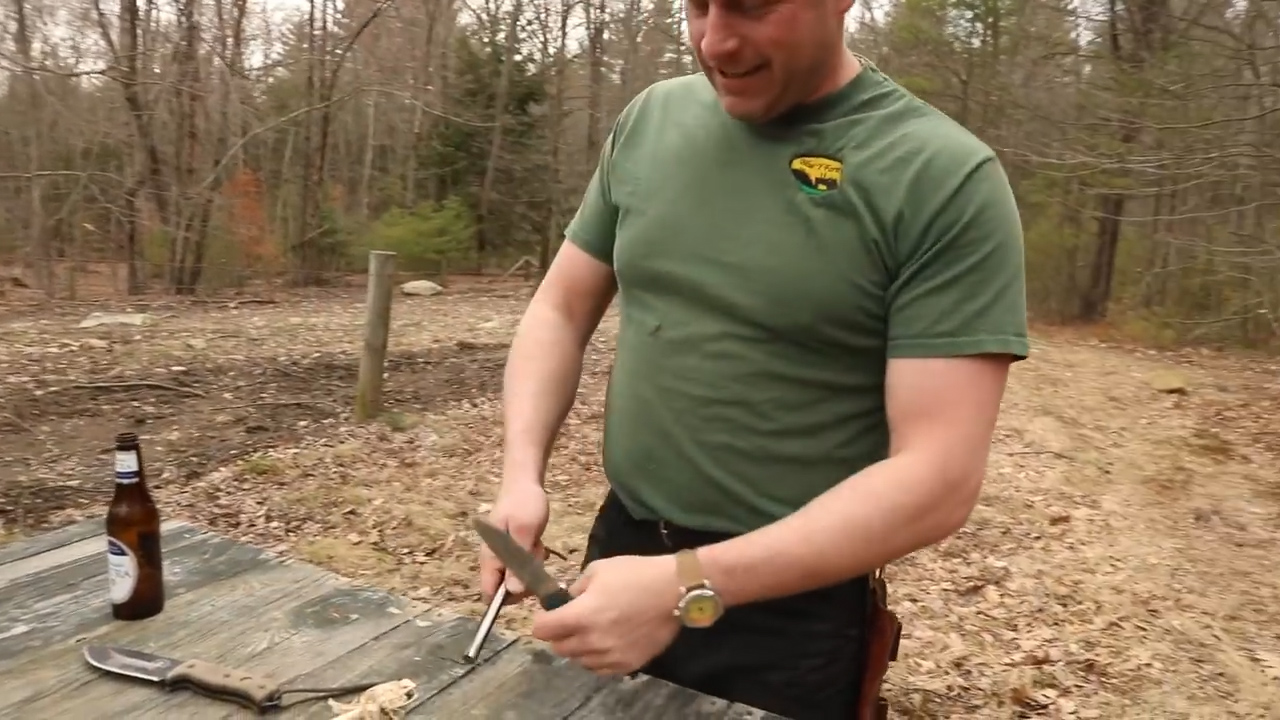knife: (458, 503, 649, 680)
